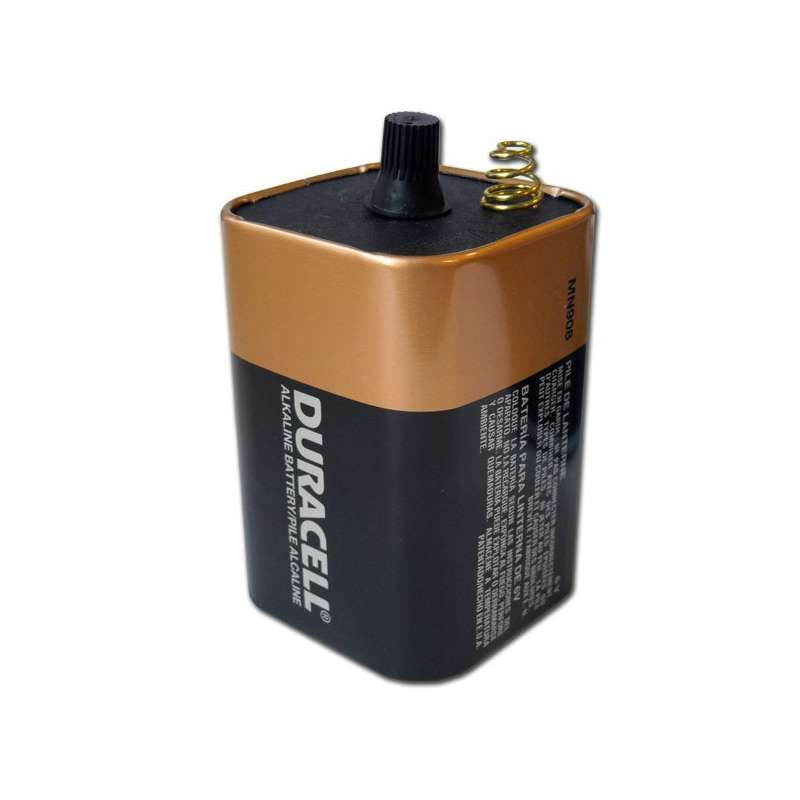6V: (212, 95, 646, 697)
